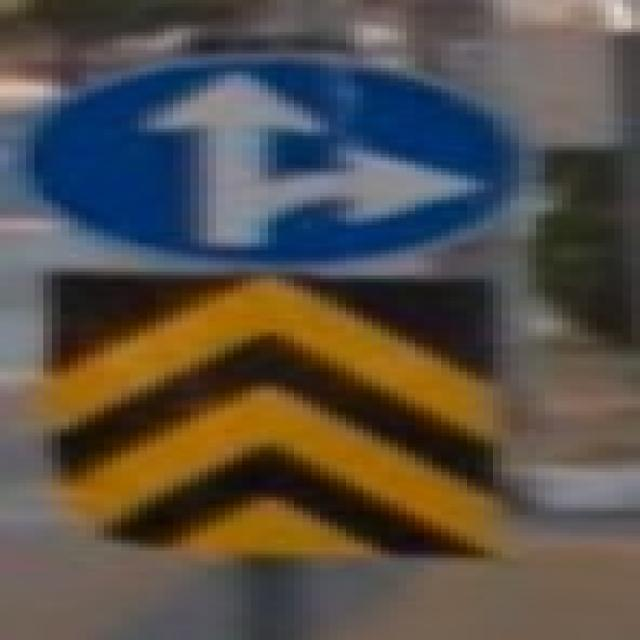Straight or Right: (40, 60, 516, 260)
